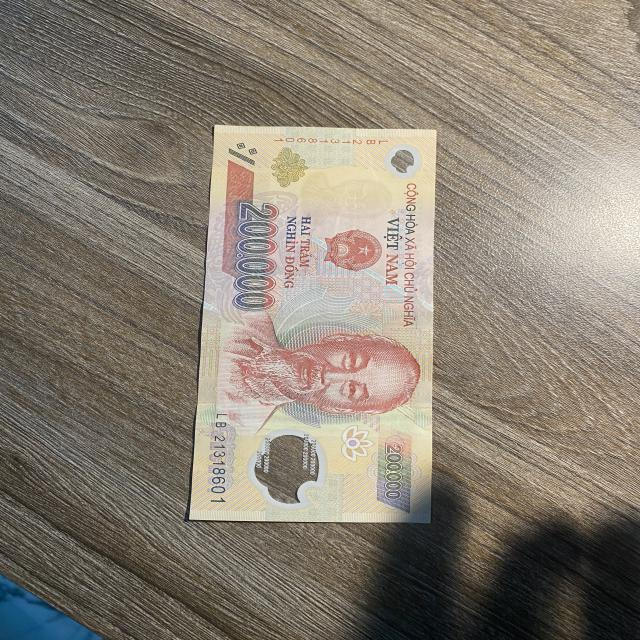200 000 VND: (183, 124, 440, 525)
